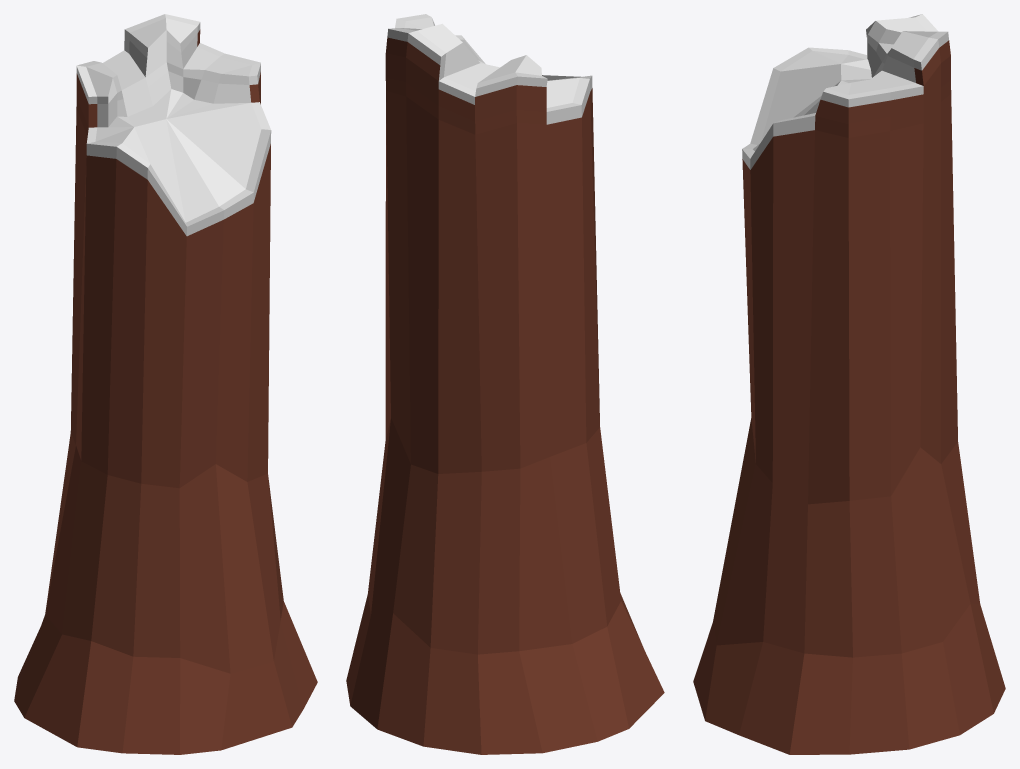
Rendered from pine_trunk_type_9_extra_LOD0.fbx.
3 views of the same model, side by side, from view 1: azimuth 30°, elevation 25°; view 2: azimuth 150°, elevation 25°; view 3: azimuth 270°, elevation 25° (orthographic). The views are drawn at different scales.
Parts seen in each view (by area): view 1: pt_type_9.001; view 2: pt_type_9.001; view 3: pt_type_9.001.
Part boxes in pixels (box(x1,y1,x2,y2)): pt_type_9.001: box(14, 14, 317, 754); pt_type_9.001: box(346, 14, 664, 754); pt_type_9.001: box(693, 14, 1005, 754).
Size of the model in its own units: 160 by 380 by 160.
